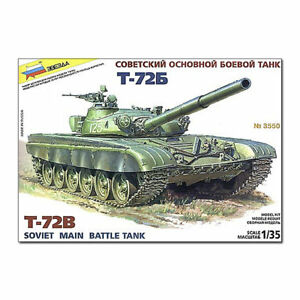Battle Tank: (26, 99, 278, 205)
